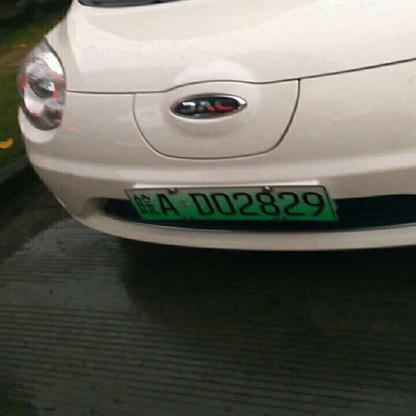lp: (124, 184, 337, 221)
